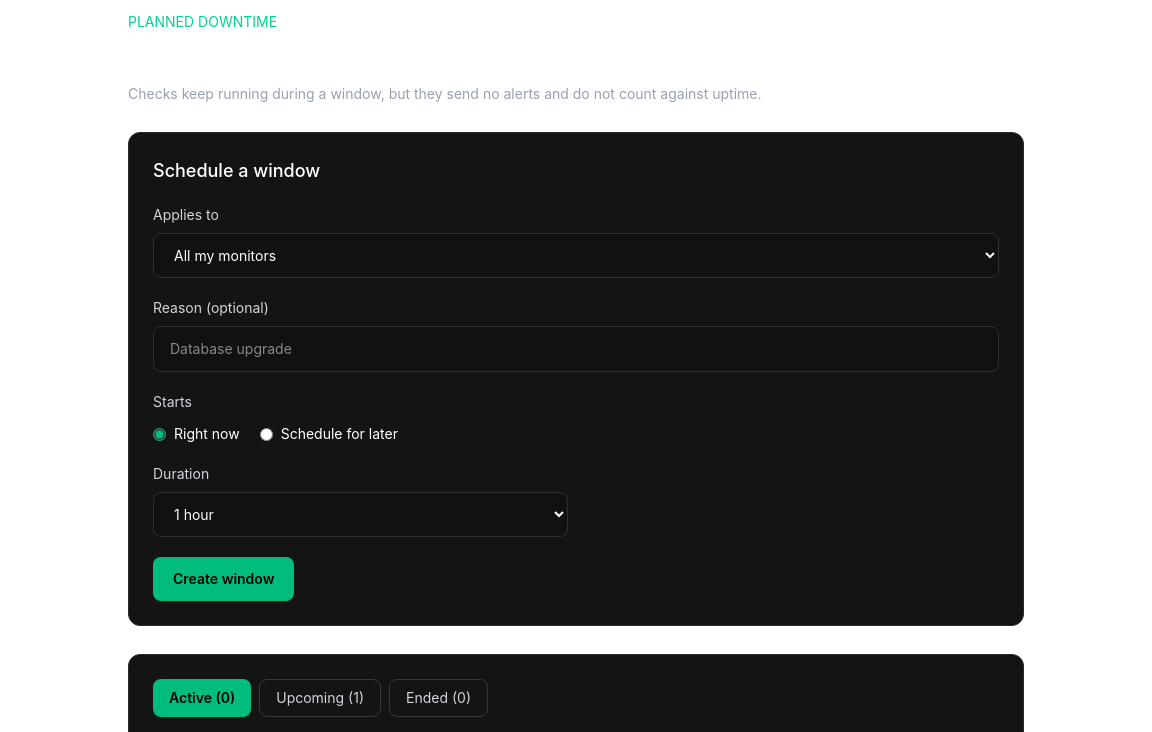
Test: MaintenanceWindows page › offers End now only for active windows
The image size is (1152, 732).
Click the tab "Upcoming (1)" at (320, 698), box [259,679,381,717]
(page scrolled)
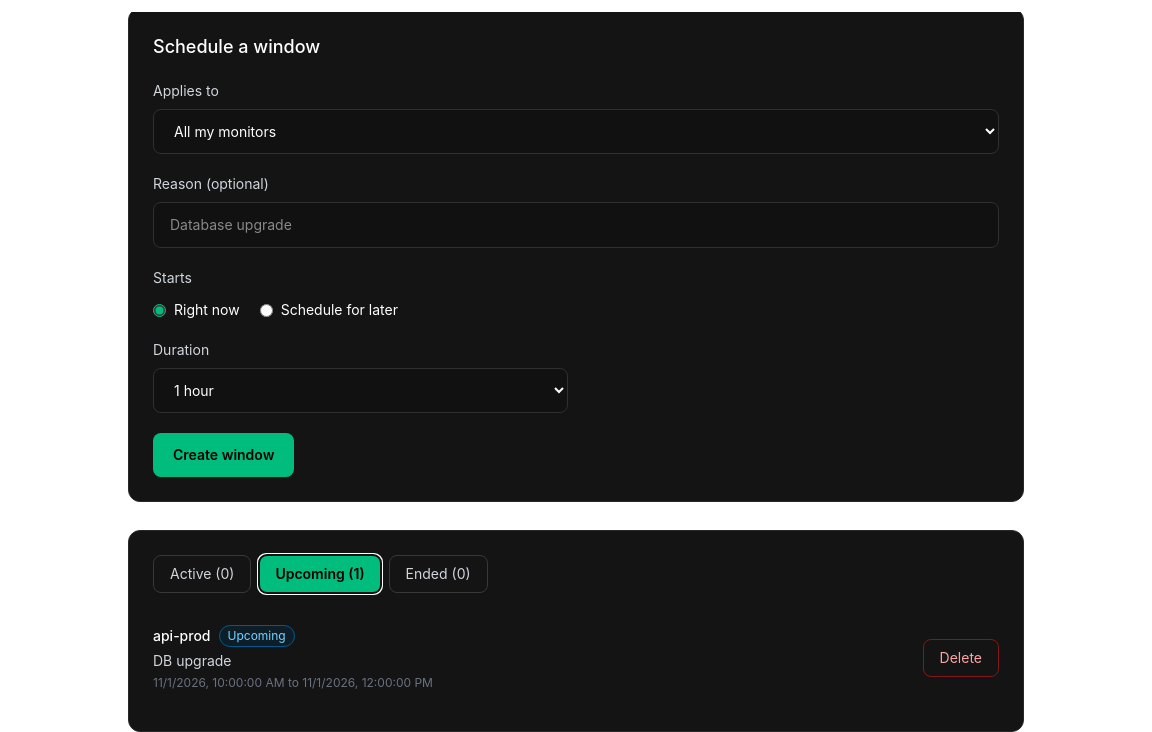
Expected: the button "Delete" is shown, [923,639,999,677]
